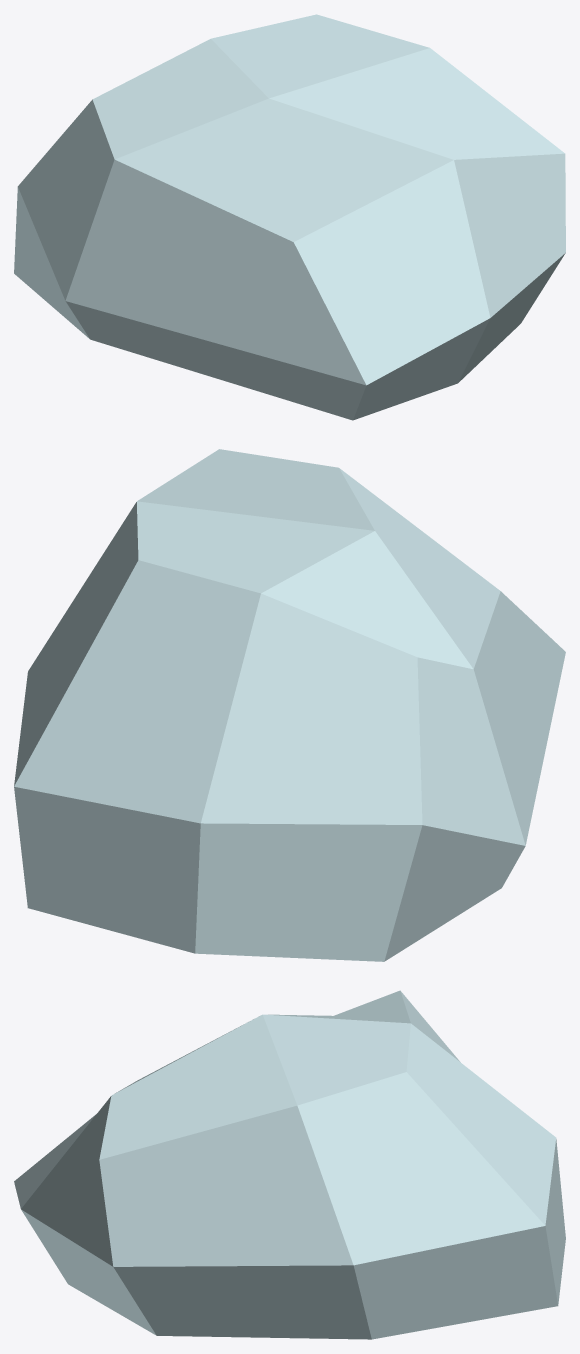
Rendered from Stone_2_Normal.fbx.
3 renders of one model, top to bottom at view 1: azimuth 30°, elevation 25°; view 2: azimuth 150°, elevation 25°; view 3: azimuth 270°, elevation 25°, orthographic. The views are drawn at different scales.
Visible parts, largest first — view 1: Stone_2_Normal; view 2: Stone_2_Normal; view 3: Stone_2_Normal.
Part boxes in pixels (box(x1,y1,x2,y2)): Stone_2_Normal: box(14, 14, 565, 420); Stone_2_Normal: box(14, 449, 565, 961); Stone_2_Normal: box(14, 990, 565, 1339).
Bounding box in the file's own units: 0.2544 × 0.1407 × 0.309.
